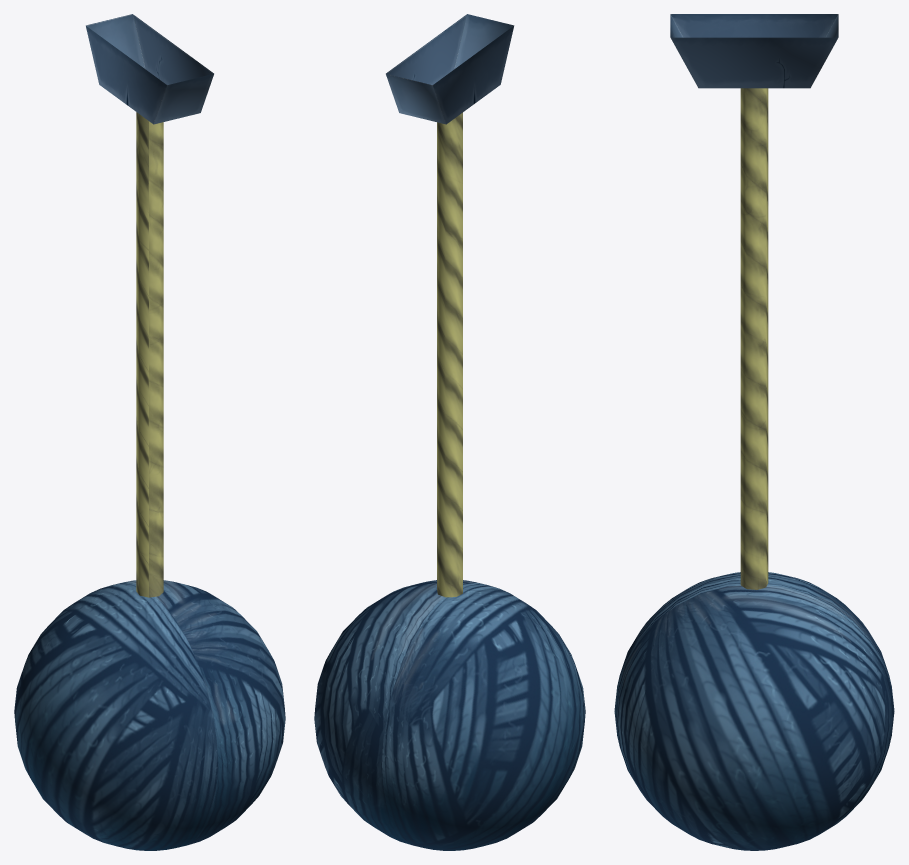
The model's file is bola3.obj.
3 views of the same model, side by side, from view 1: azimuth 30°, elevation 25°; view 2: azimuth 150°, elevation 25°; view 3: azimuth 270°, elevation 25° (orthographic). The views are drawn at different scales.
Visible parts, largest first — view 1: Sphere, Sphere.001; view 2: Sphere, Sphere.001; view 3: Sphere, Sphere.001.
Part boxes in pixels (<box>): Sphere: <box>14,112,285,850</box>; Sphere.001: <box>85,14,213,124</box>; Sphere: <box>314,112,585,850</box>; Sphere.001: <box>386,14,514,124</box>; Sphere: <box>614,88,894,850</box>; Sphere.001: <box>670,14,838,88</box>.
Size of the model in its own units: 2 by 6.4 by 2.
Materials: 1 (1 with a texture image).
